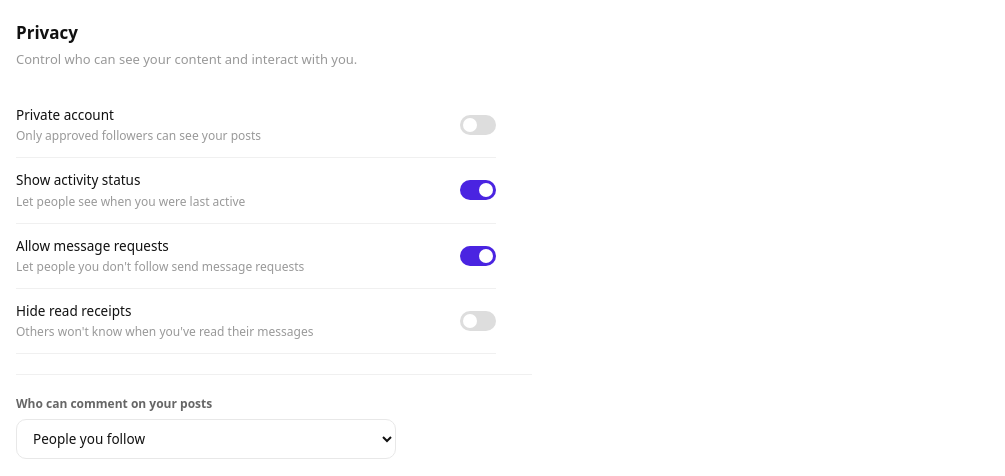
PrivacySection › rolls back a toggle and shows an error toast when the save fails
Click the checkbox in the row of "Private account" at (478, 125), box x1=460 y1=115 x2=496 y2=135
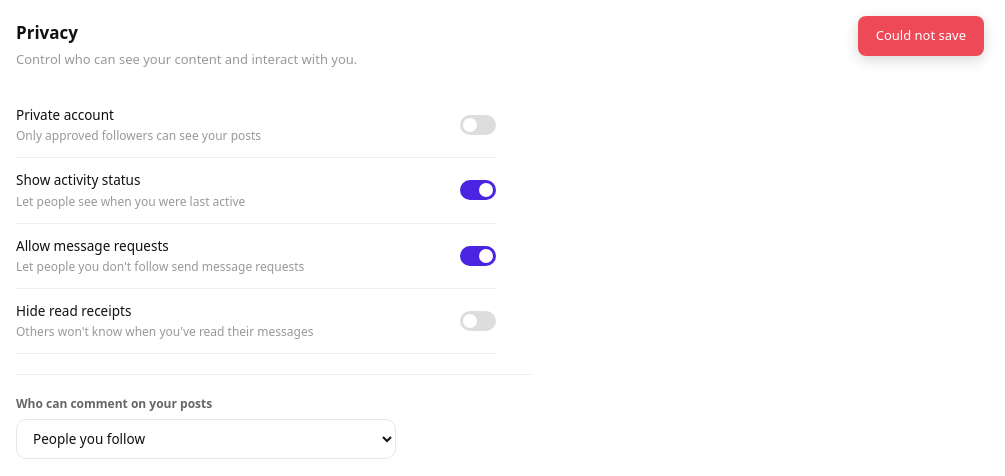
Now the text "Could not save" is shown, box x1=858 y1=16 x2=984 y2=56
